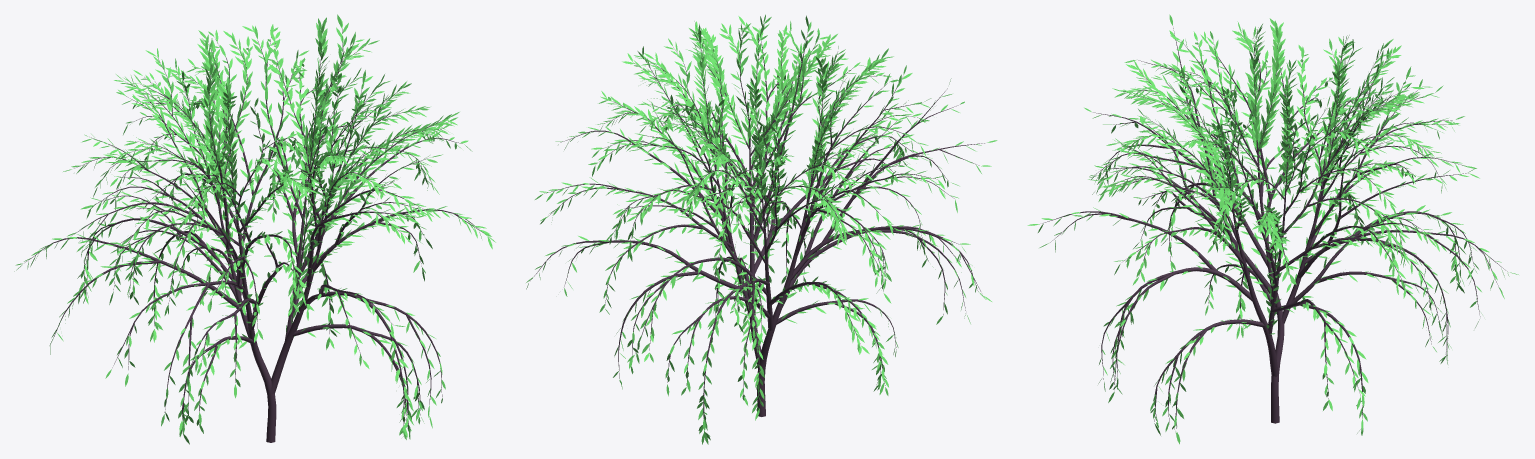
File: arbol.fbx
The picture shows the model from 3 angles, left to right: view 1: azimuth 30°, elevation 25°; view 2: azimuth 150°, elevation 25°; view 3: azimuth 270°, elevation 25°; orthographic projection. The views are drawn at different scales.
Visible parts, largest first — view 1: leaves, tree; view 2: leaves, tree; view 3: leaves, tree.
Part boxes in pixels (bbox=[...]): leaves: bbox=[14, 14, 495, 444]; tree: bbox=[25, 28, 483, 442]; leaves: bbox=[526, 14, 997, 444]; tree: bbox=[530, 24, 984, 418]; leaves: bbox=[1027, 14, 1518, 444]; tree: bbox=[1042, 28, 1507, 429].
Size of the model in its own units: 931 by 872 by 995.
